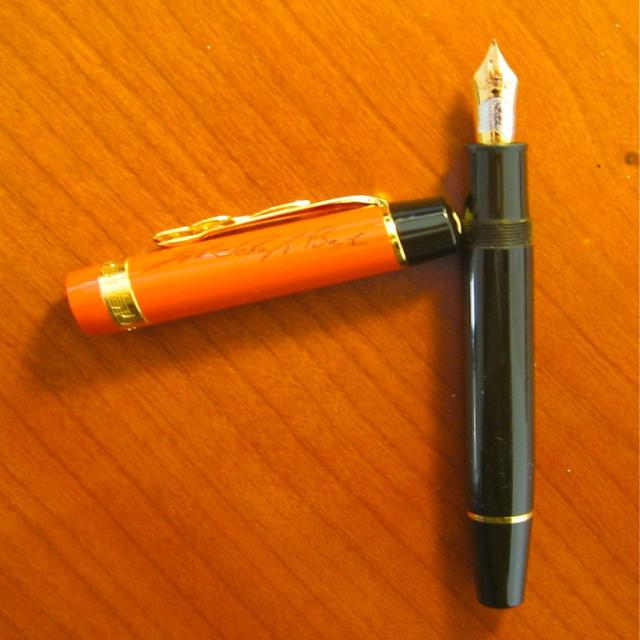pen: (455, 28, 539, 610)
